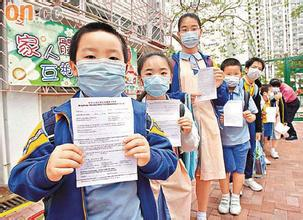OK: (77, 45, 125, 98), (141, 67, 171, 97), (179, 27, 201, 49), (225, 71, 242, 88), (249, 65, 263, 81), (273, 85, 282, 95), (267, 91, 276, 101)
